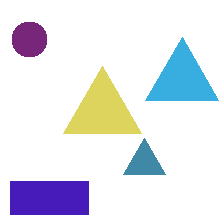circle: (12, 22, 46, 56)
rectangle: (10, 181, 88, 214)
triangle: (63, 66, 141, 133), (145, 37, 218, 100), (123, 138, 165, 174)
